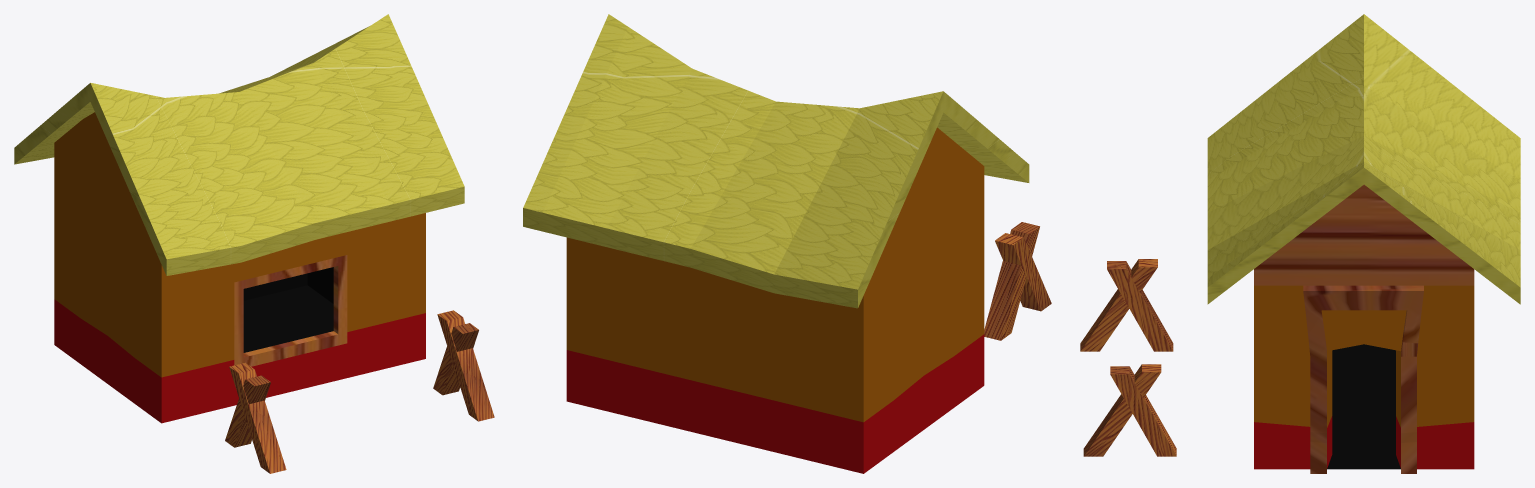
Rendered from house 3.fbx.
The picture shows the model from 3 angles, left to right: view 1: azimuth 30°, elevation 25°; view 2: azimuth 150°, elevation 25°; view 3: azimuth 270°, elevation 25°; orthographic projection. The views are drawn at different scales.
Parts seen in each view (by area): view 1: Cube.009; view 2: Cube.009; view 3: Cube.009.
Boxes of the visible parts, bbox=[...] form: Cube.009: bbox=[14, 14, 494, 473]; Cube.009: bbox=[523, 14, 1051, 473]; Cube.009: bbox=[1080, 14, 1520, 473].
Bounding box in the file's own units: 136 × 134 × 170.
Materials: 7 (4 with a texture image).
